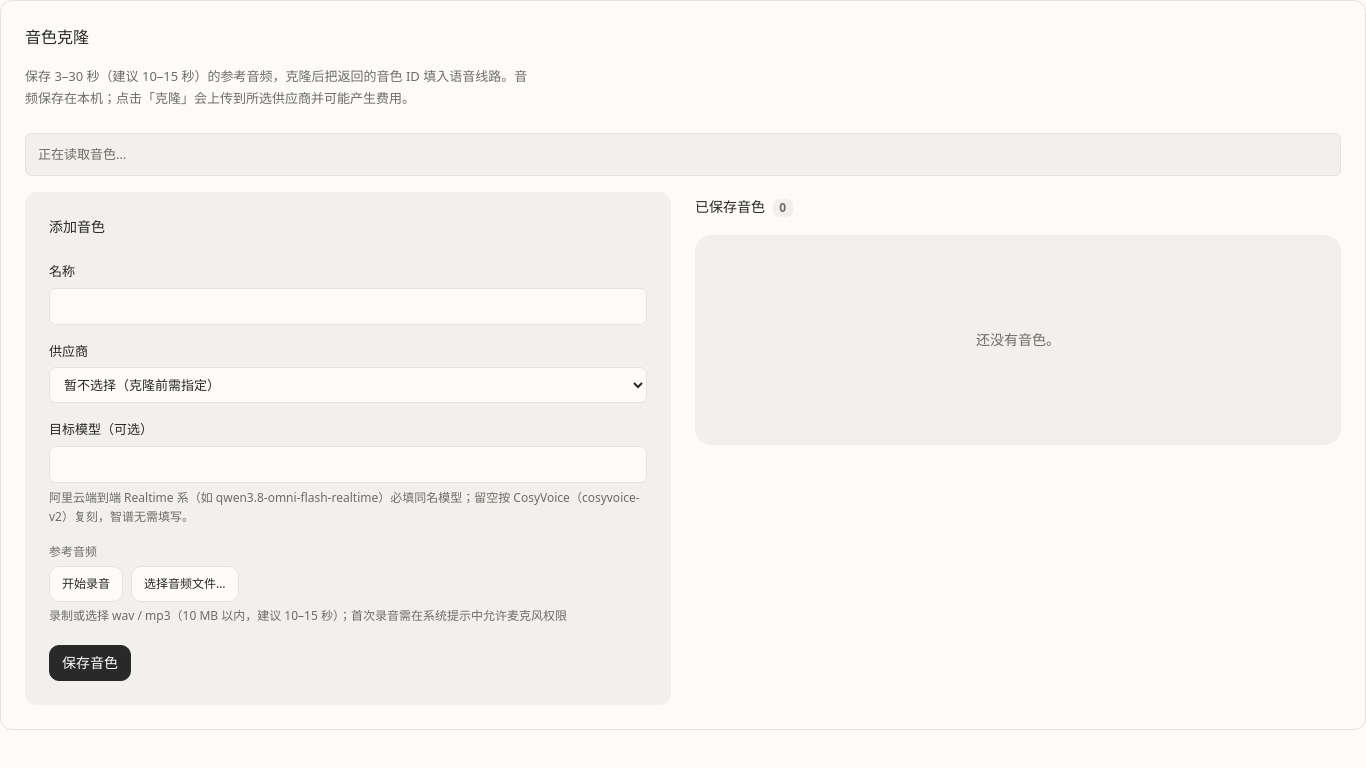
Test: VoiceReferenceEditor › blocks submit without audio and without an existing reference
Expected: the text "还没有音色。" is shown, [695, 235, 1341, 445]
Type "新音色" into the field labelled "名称".
click(348, 306); type("新音色")  # box [49, 288, 647, 325]
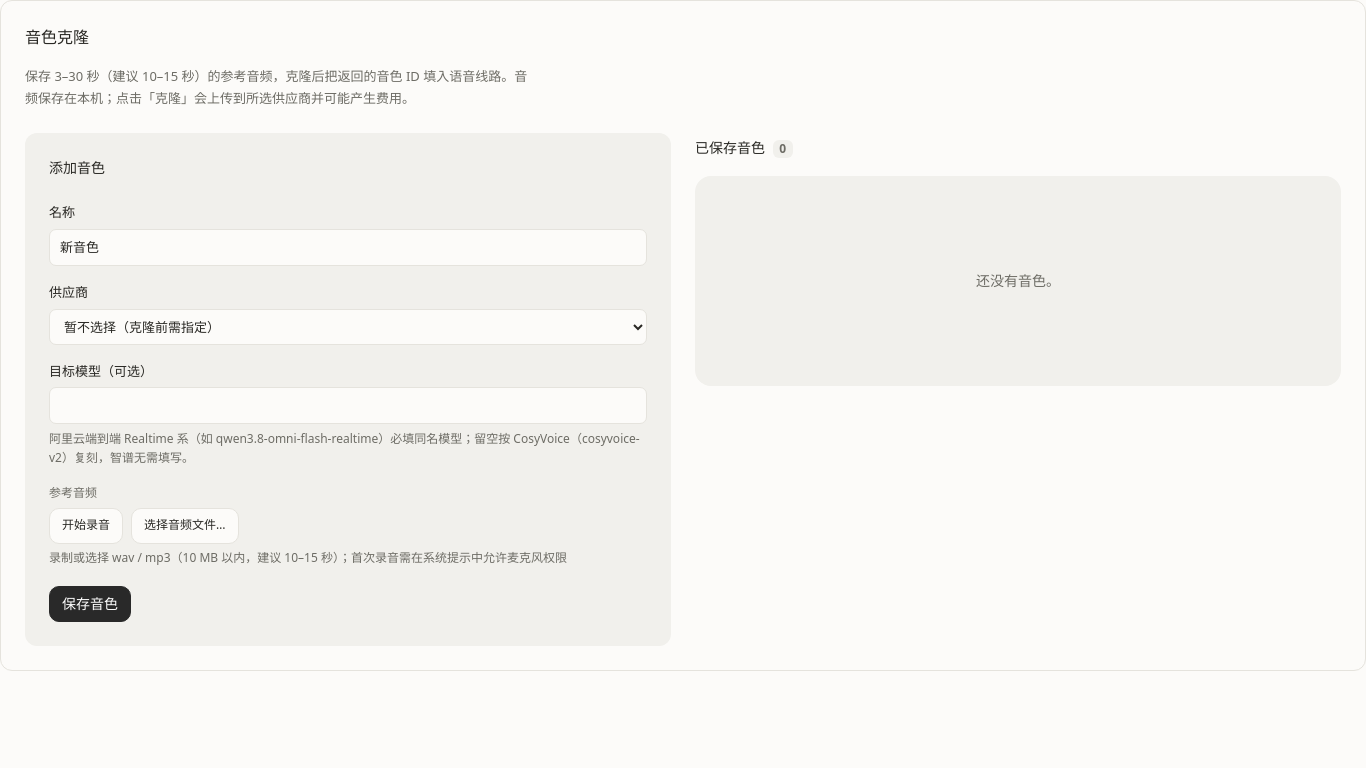
Submit the form named "保存音色", box [25, 133, 671, 646]
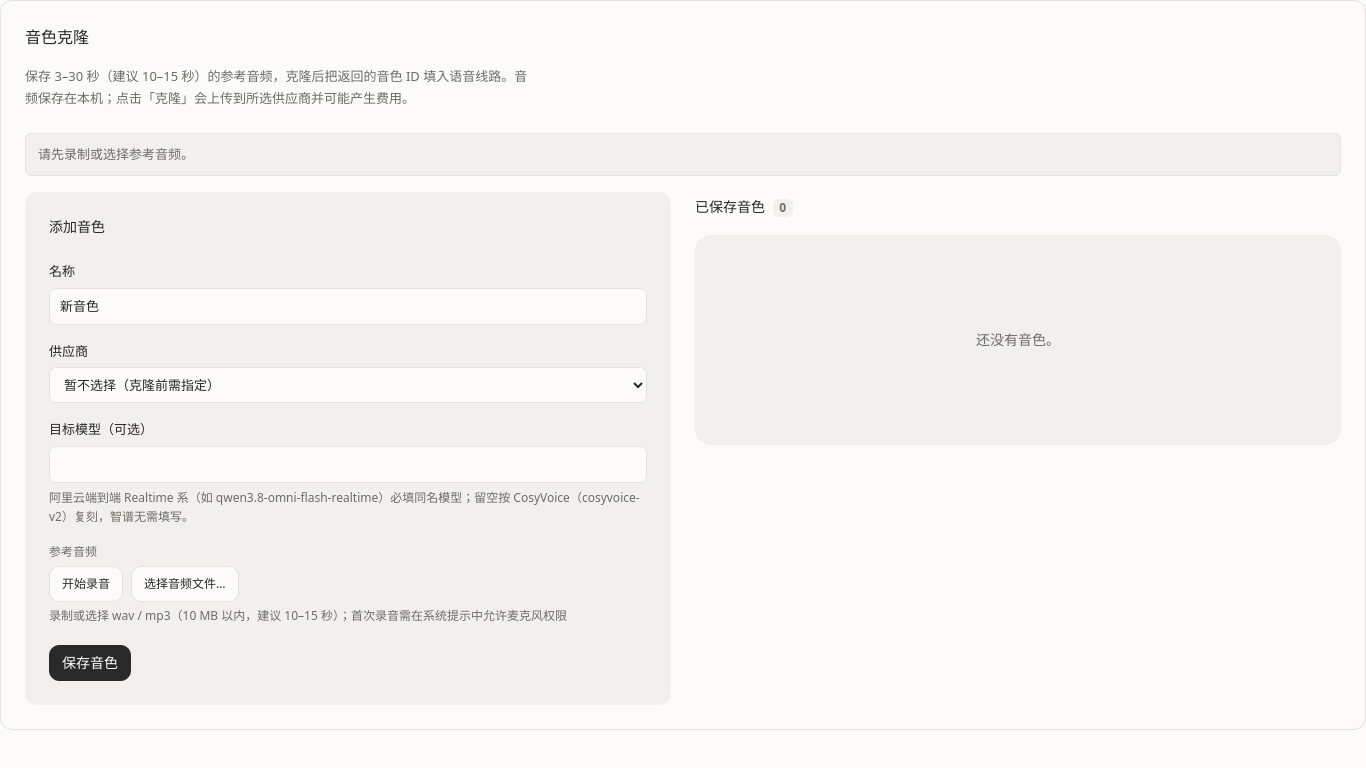
Expected: the message reads "请先录制或选择参考音频。", [38, 145, 194, 163]
